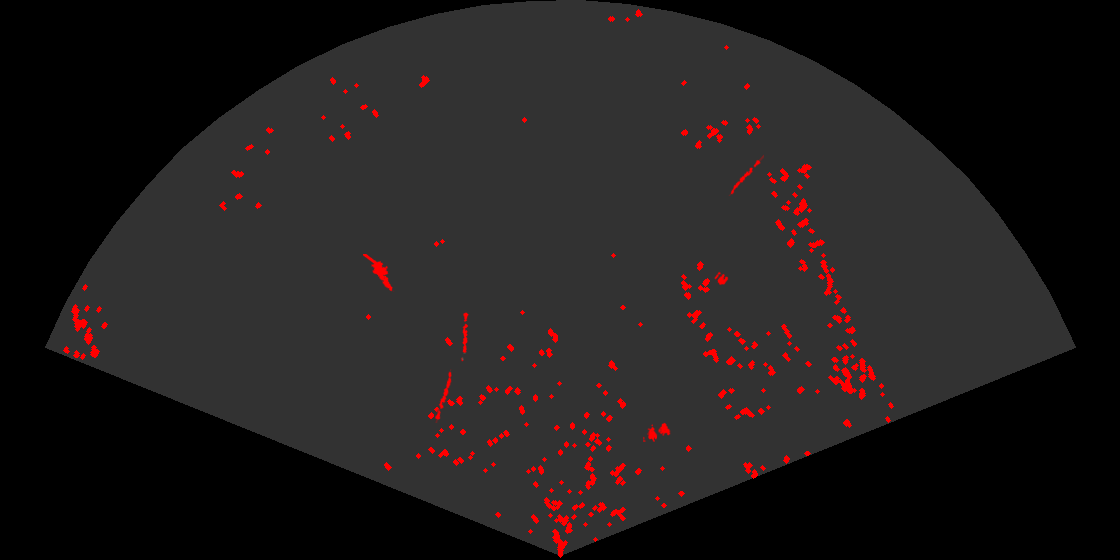ball: (713, 270, 730, 287)
cage: (643, 421, 672, 442)
chain: (727, 153, 764, 196), (433, 369, 453, 423), (459, 312, 471, 362)
frogman: (363, 254, 396, 292)
